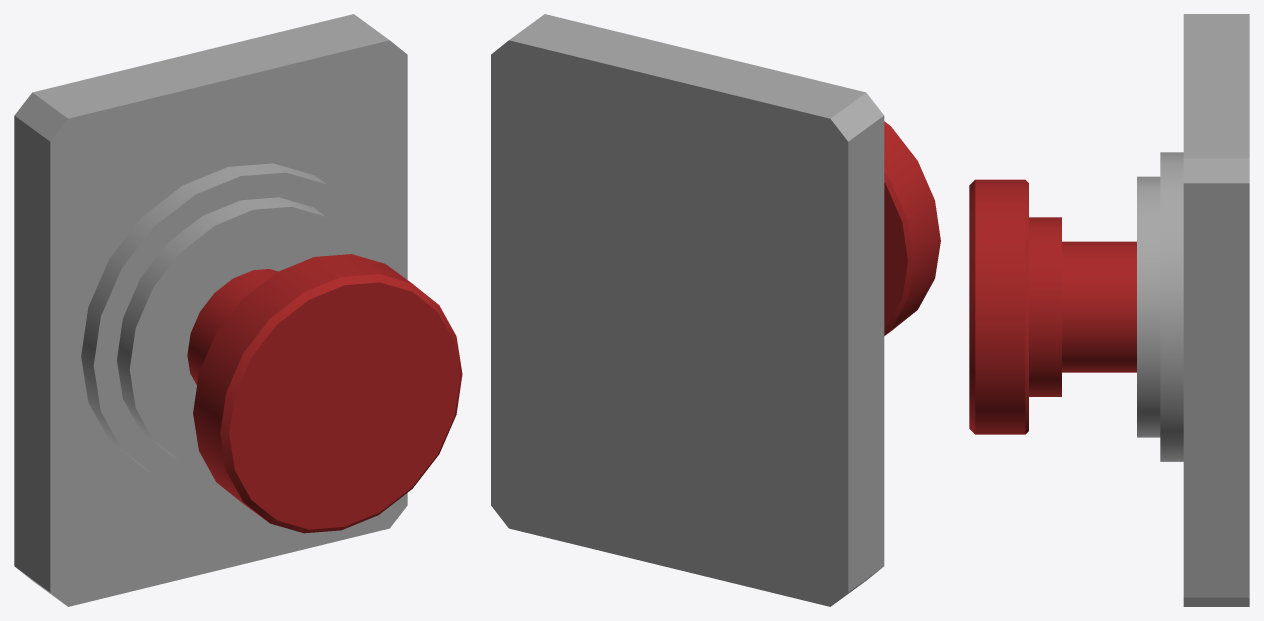
The model's file is Mod_inActiveButton_v1.fbx.
3 renders of one model, left to right at view 1: azimuth 30°, elevation 25°; view 2: azimuth 150°, elevation 25°; view 3: azimuth 270°, elevation 25°, orthographic. The views are drawn at different scales.
Visible parts, largest first — view 1: standaard, polySurface1; view 2: standaard, polySurface1; view 3: standaard, polySurface1.
Boxes of the visible parts, box(x1,y1,x2,y2) form: standaard: box(14, 14, 407, 606); polySurface1: box(187, 254, 462, 533); standaard: box(491, 14, 884, 606); polySurface1: box(884, 121, 940, 335); standaard: box(1137, 14, 1249, 606); polySurface1: box(969, 179, 1136, 434).
Size of the model in its own units: 42.65 by 55.7 by 31.53.
